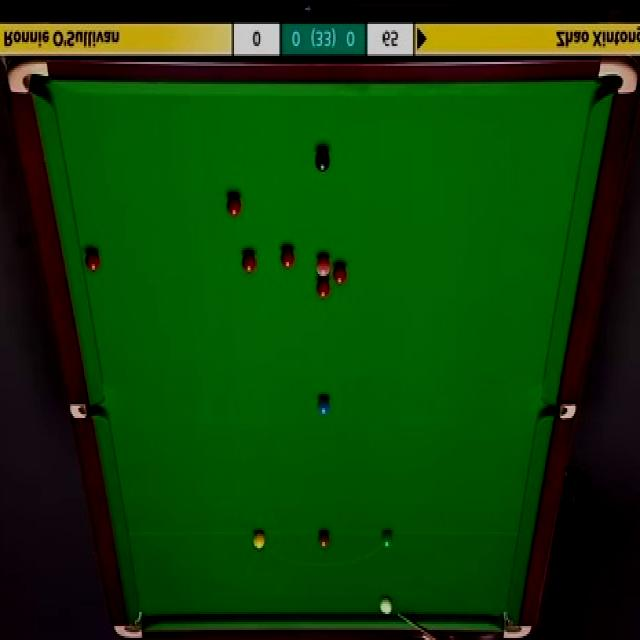black-ball: (314, 148, 332, 172)
blue-ball: (316, 396, 329, 417)
brown-ball: (317, 532, 328, 548)
green-ball: (381, 532, 392, 548)
pink-ball: (316, 253, 329, 279)
red-ball: (332, 260, 348, 286), (226, 194, 242, 219), (241, 252, 256, 274), (85, 251, 102, 270), (281, 248, 295, 270), (316, 280, 331, 299)
white-ball: (378, 597, 392, 617)
yellow-ball: (250, 530, 266, 550)
